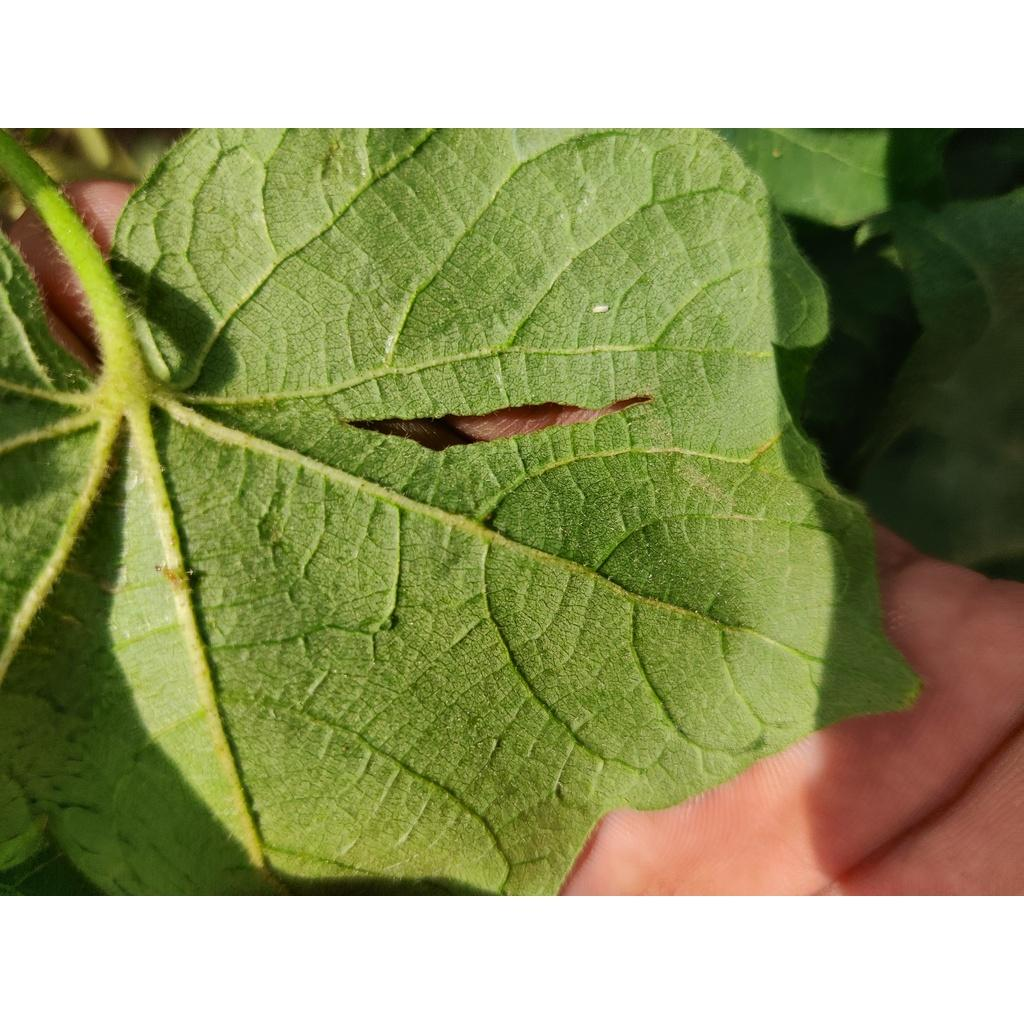adult: (592, 303, 609, 314), (205, 205, 216, 214)
